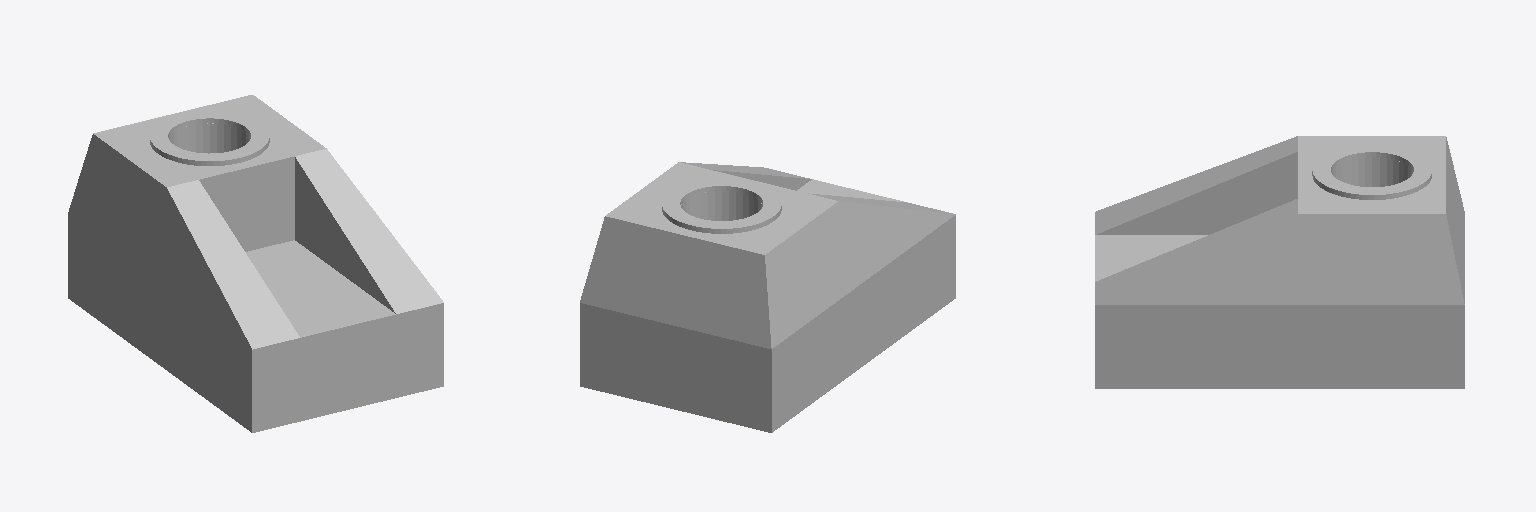
File: baseObj.obj
3 views of the same model, side by side, from view 1: azimuth 30°, elevation 25°; view 2: azimuth 150°, elevation 25°; view 3: azimuth 270°, elevation 25° (orthographic).
Visible parts, largest first — view 1: base_01.step; view 2: base_01.step; view 3: base_01.step.
Boxes of the visible parts, box(x1,y1,x2,y2) form: base_01.step: box(68, 95, 443, 432); base_01.step: box(580, 162, 955, 432); base_01.step: box(1095, 136, 1464, 388).
Bounding box in the file's own units: 120 × 103 × 200.